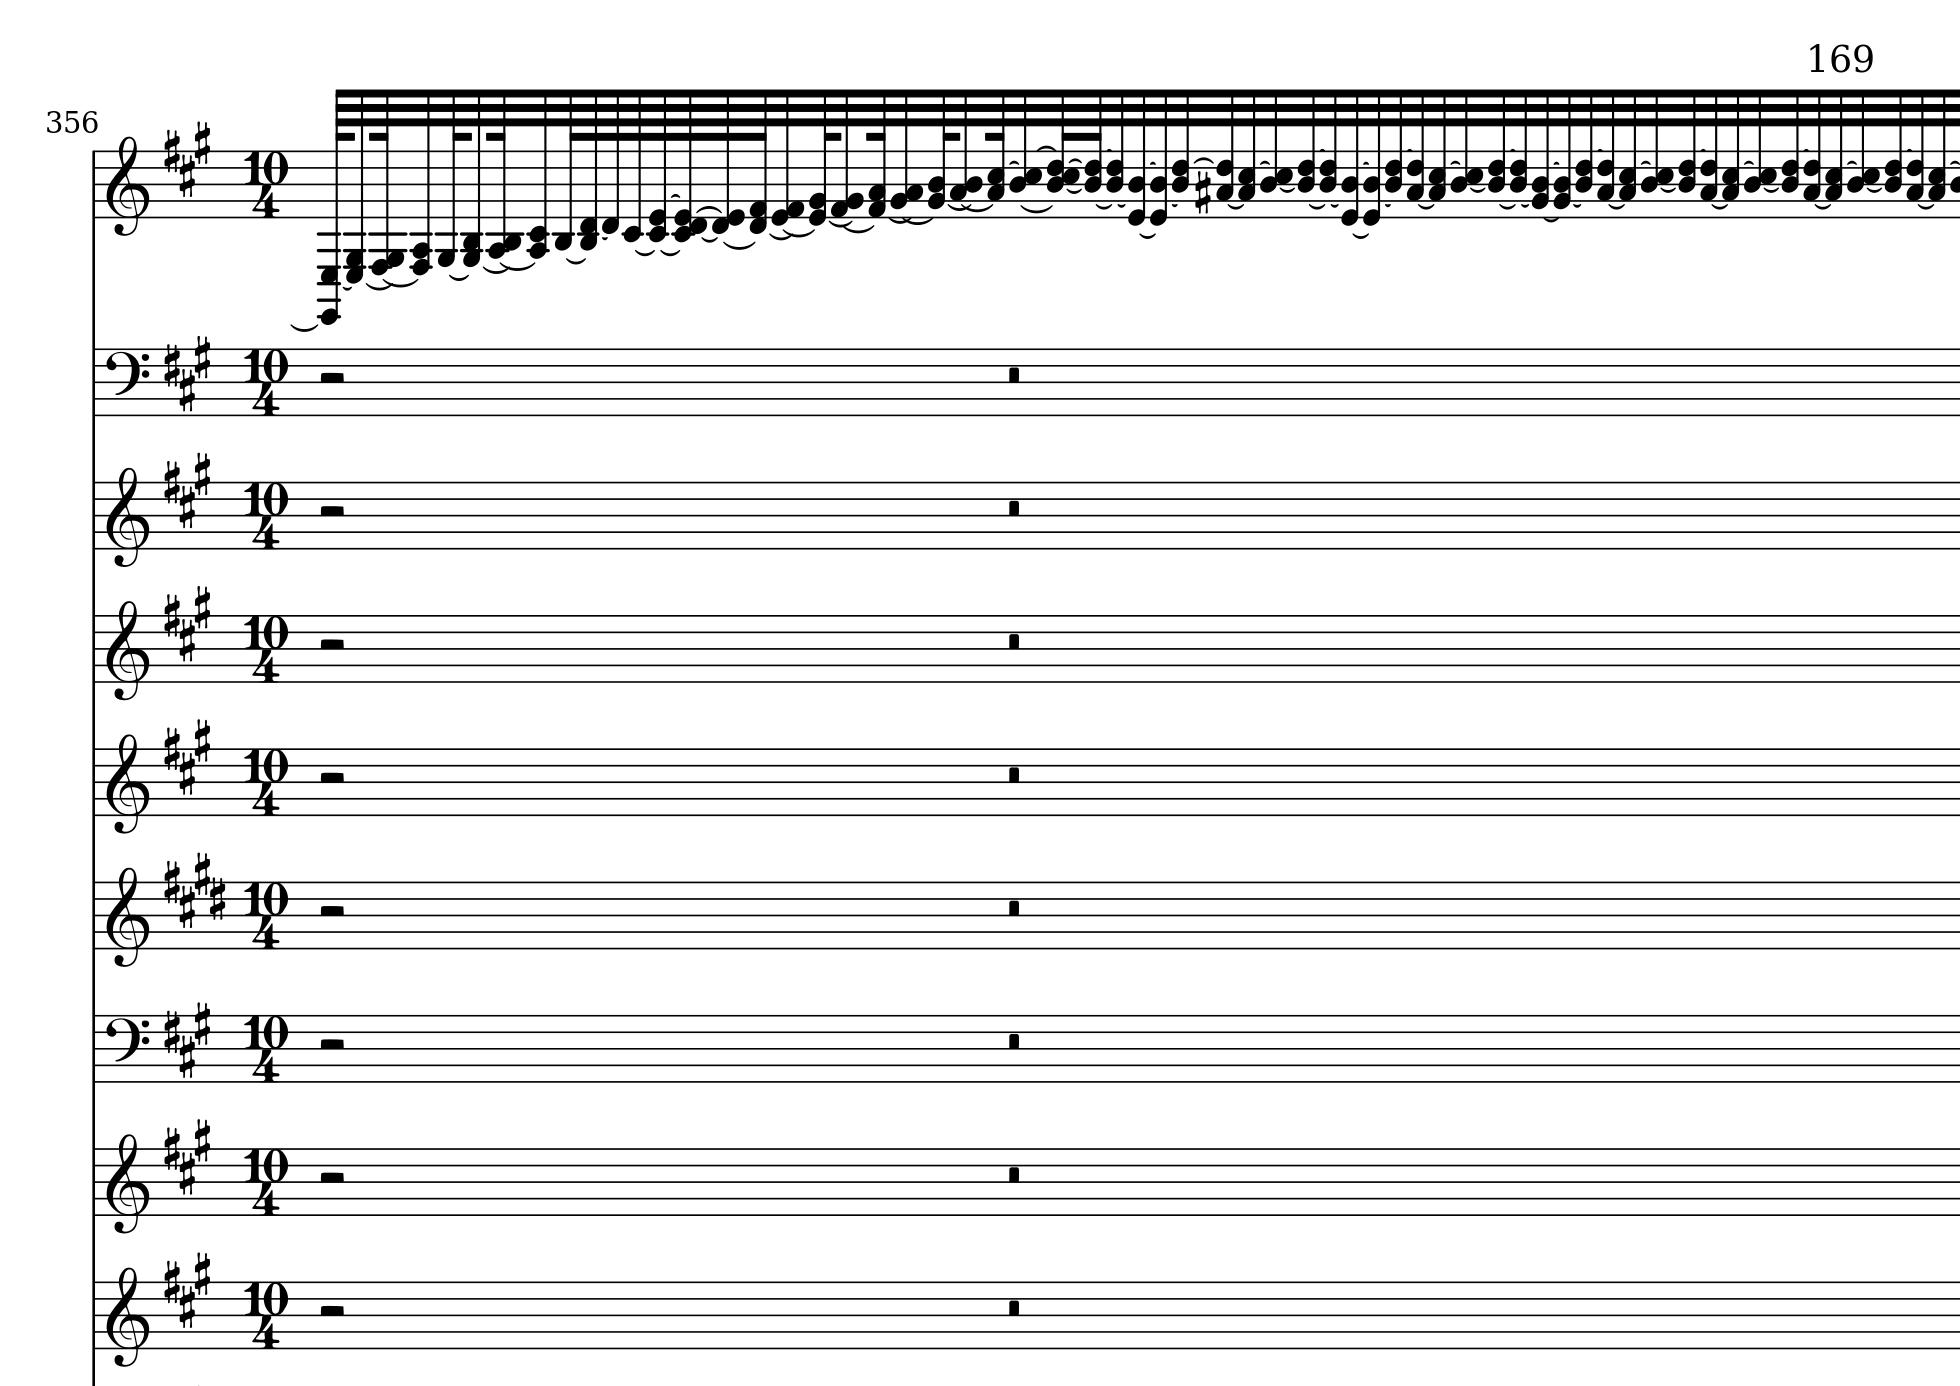0: (250, 352, 286, 406), (262, 346, 289, 382), (262, 478, 289, 514), (262, 745, 289, 781), (262, 148, 289, 183), (262, 1012, 289, 1047), (262, 1146, 289, 1180), (262, 1279, 289, 1314), (262, 613, 289, 646), (262, 880, 289, 913)
1: (244, 1146, 264, 1183), (244, 1279, 264, 1315), (244, 745, 262, 783), (244, 148, 262, 184), (244, 346, 262, 382), (244, 480, 262, 516), (244, 613, 262, 649), (244, 1012, 262, 1048), (244, 880, 262, 915), (1809, 40, 1824, 73)
3: (43, 106, 63, 135)
4: (247, 1150, 270, 1210), (247, 183, 283, 217), (247, 381, 283, 415), (247, 514, 283, 549), (249, 646, 283, 682), (247, 913, 283, 948), (247, 1180, 283, 1215), (247, 1314, 283, 1348), (247, 1048, 283, 1081), (249, 781, 283, 814)
5: (61, 106, 79, 135)
6: (1828, 39, 1852, 79), (79, 106, 99, 135)
9: (1852, 39, 1876, 79)
A_S: (160, 120, 213, 198), (162, 717, 211, 796), (162, 1116, 211, 1195), (162, 333, 211, 411), (162, 451, 211, 529), (162, 583, 211, 661), (160, 1252, 211, 1327), (162, 1000, 211, 1077)
E_S: (162, 850, 228, 928)
Fclef: (105, 346, 151, 418), (105, 1012, 151, 1084)
Gclef: (105, 133, 151, 238), (105, 598, 151, 703), (105, 730, 151, 835), (105, 1131, 151, 1236), (105, 1264, 151, 1369), (105, 465, 151, 568), (105, 865, 151, 969)
Rests2: (313, 367, 349, 388), (313, 1033, 349, 1054), (313, 1300, 349, 1321), (313, 501, 349, 520), (313, 634, 349, 654), (313, 768, 349, 787), (313, 901, 349, 921), (313, 1167, 349, 1186)
Sharp: (1192, 166, 1213, 216)
Single_barline: (85, 150, 102, 217), (87, 348, 102, 415), (87, 1147, 100, 1216), (87, 481, 100, 549), (87, 882, 100, 949), (87, 748, 100, 814), (87, 1015, 100, 1081), (87, 1282, 100, 1348), (88, 615, 100, 682)
Slur: (1020, 202, 1056, 214), (721, 238, 757, 250), (379, 277, 420, 286), (840, 222, 874, 232), (289, 321, 319, 331), (907, 216, 934, 225), (964, 205, 996, 213), (364, 282, 390, 291), (1350, 229, 1372, 238), (1917, 202, 1938, 211), (1606, 202, 1627, 211), (1710, 202, 1729, 211), (1812, 202, 1833, 210), (1540, 214, 1561, 222)
TimeSig: (241, 480, 292, 550), (241, 1147, 292, 1216), (241, 1279, 292, 1348), (241, 148, 291, 219), (241, 346, 291, 417), (241, 613, 291, 684), (241, 745, 291, 816), (241, 1014, 291, 1083), (243, 880, 291, 949)
